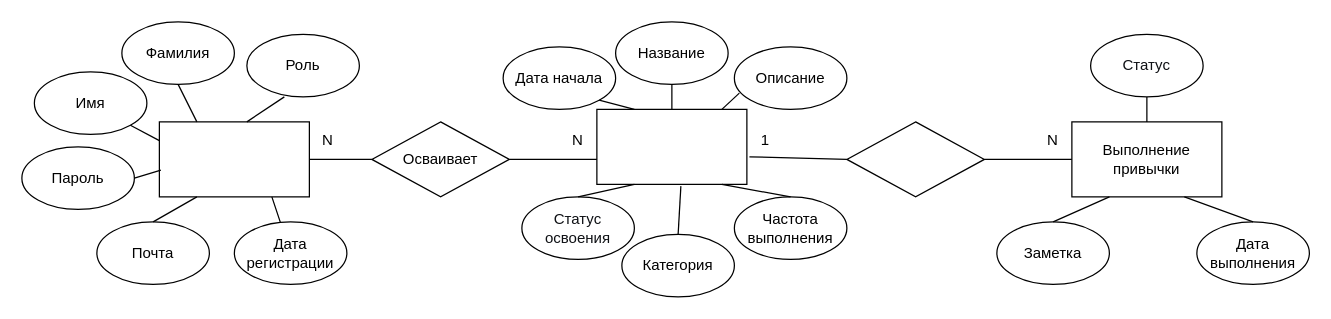
The diagram is 1331 pixels wide and 319 high, and some of its shapes have lost their labels. The shapes that lost their labels are listed below. From the top down, each one's box as (x1, y1, x2, y2) in pixels, then its label:
(158, 121, 309, 197): Пользователь
(596, 108, 747, 184): Привычка пользователя
(846, 121, 984, 197): Фиксируется
